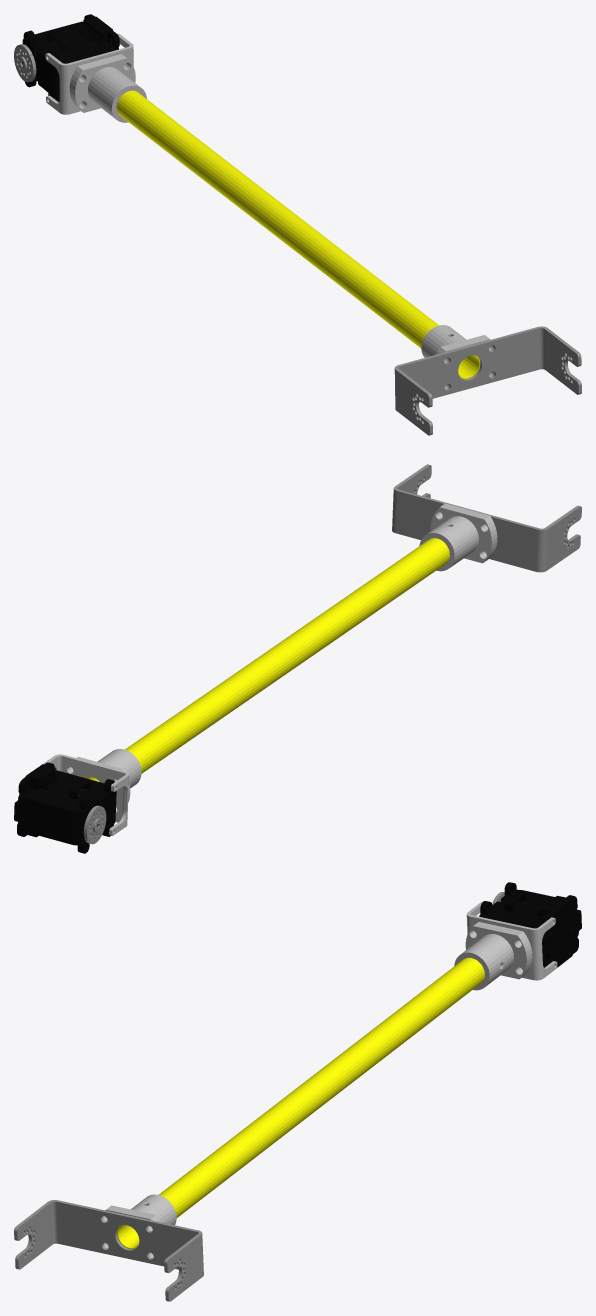
File: mini2_arm_upper_module.dae
The picture shows the model from 3 angles, top to bottom: view 1: azimuth 30°, elevation 25°; view 2: azimuth 150°, elevation 25°; view 3: azimuth 330°, elevation 25°; orthographic projection.
Visible parts, largest first — view 1: node; view 2: node; view 3: node.
Boxes of the visible parts, x1,y1,x2,y2 form: node: [14, 14, 581, 435]; node: [14, 464, 581, 853]; node: [14, 882, 581, 1301].
Size of the model in its own units: 9.59 by 4.26 by 49.12.
1 material, 1 textured.
